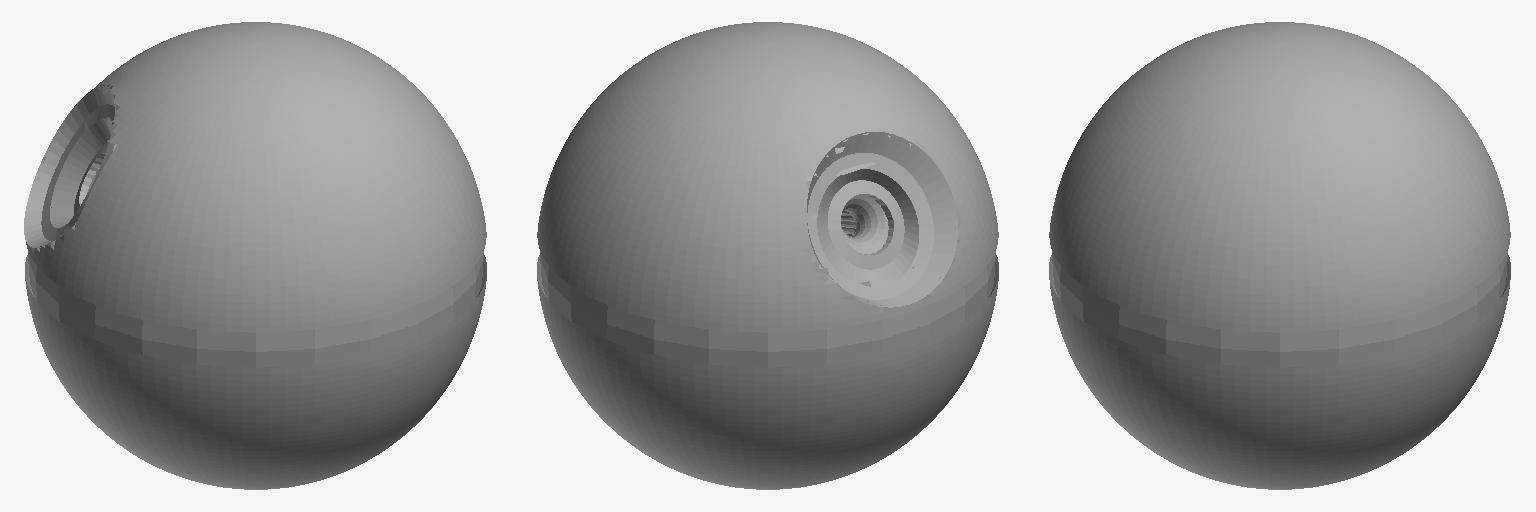
Rendered from death-star.obj.
The picture shows the model from 3 angles: view 1: azimuth 30°, elevation 25°; view 2: azimuth 150°, elevation 25°; view 3: azimuth 270°, elevation 25°; orthographic projection.
Parts seen in each view (by area): view 1: Sphere1, Sphere4, Sphere; view 2: Sphere1, Sphere, Sphere4, Torus1, Sphere3; view 3: Sphere1, Sphere4.
Boxes of the visible parts, <box> form: Sphere1: <box>25,22,486,489</box>; Sphere4: <box>28,246,483,367</box>; Sphere: <box>24,86,117,247</box>; Sphere1: <box>537,22,998,489</box>; Sphere: <box>807,132,957,307</box>; Sphere4: <box>540,251,995,367</box>; Torus1: <box>841,194,888,254</box>; Sphere3: <box>802,129,961,309</box>; Sphere1: <box>1049,22,1510,489</box>; Sphere4: <box>1052,251,1507,367</box>.
Bounding box in the file's own units: 0.9846 × 0.9995 × 0.9846.